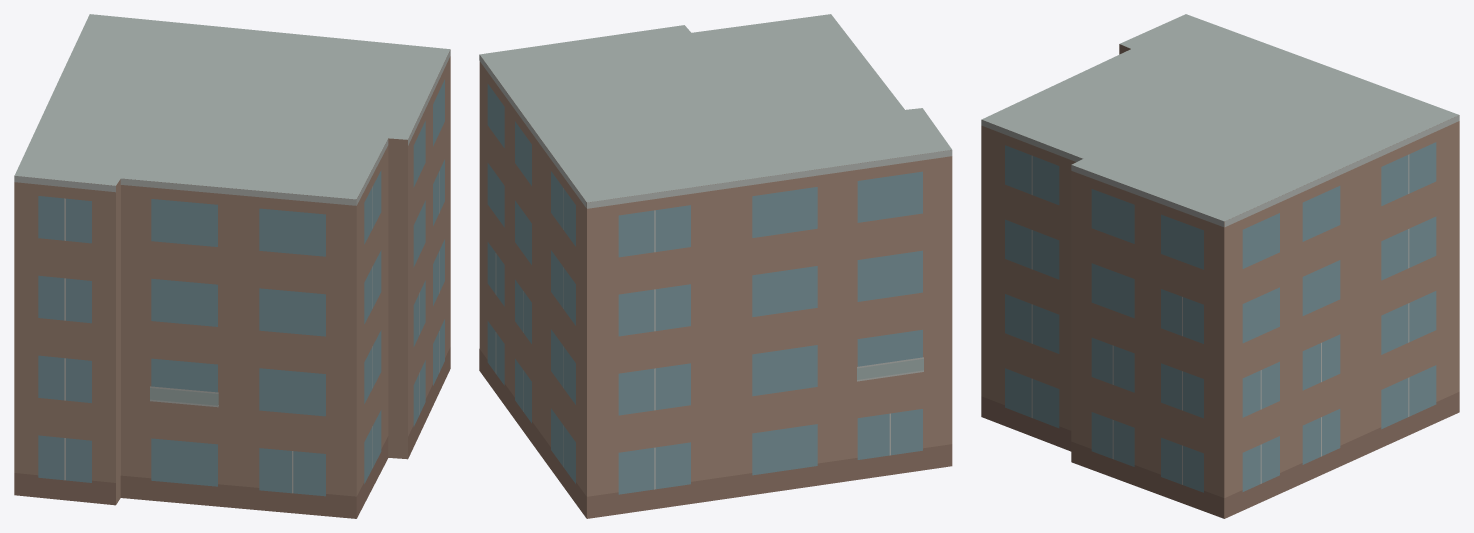
File: survey-upis-32673875.glb
3 views of the same model, side by side, from view 1: azimuth 30°, elevation 25°; view 2: azimuth 150°, elevation 25°; view 3: azimuth 270°, elevation 25° (orthographic). The views are drawn at different scales.
Visible parts, largest first — view 1: survey-upis-32673875.tmp; view 2: survey-upis-32673875.tmp; view 3: survey-upis-32673875.tmp.
Part boxes in pixels (x1,y1,x2,y2): survey-upis-32673875.tmp: (14,14,450,518); survey-upis-32673875.tmp: (479,14,952,518); survey-upis-32673875.tmp: (981,14,1459,518).
Bounding box in the file's own units: 18.26 × 12.2 × 17.78.
